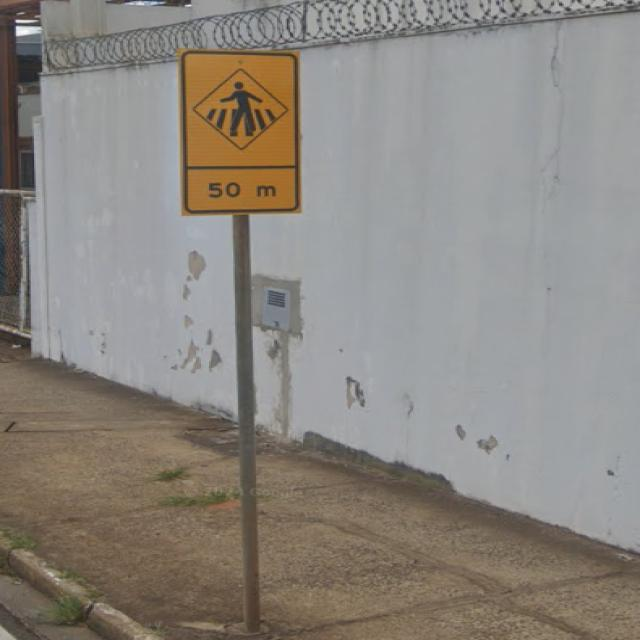pedestrian crossing: (174, 44, 307, 219)
